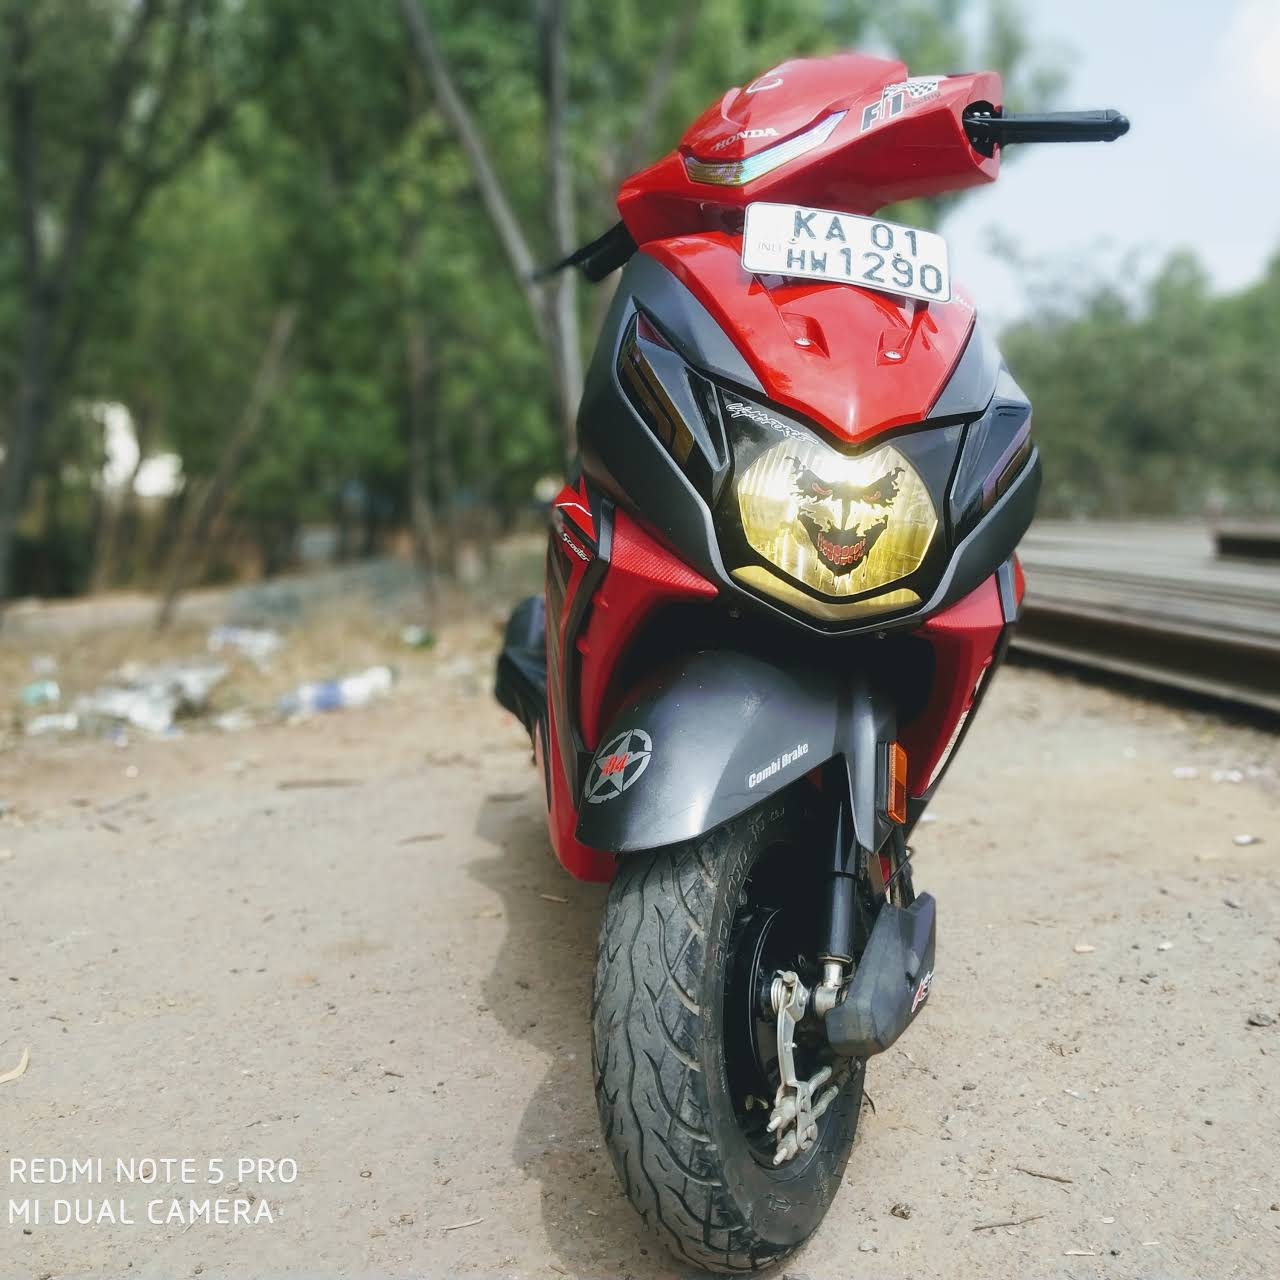doublelinenumberplate: (742, 200, 958, 304)
